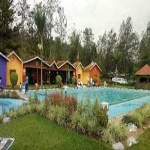House: (1, 52, 103, 92)
Uncultivated: (4, 84, 148, 150)
